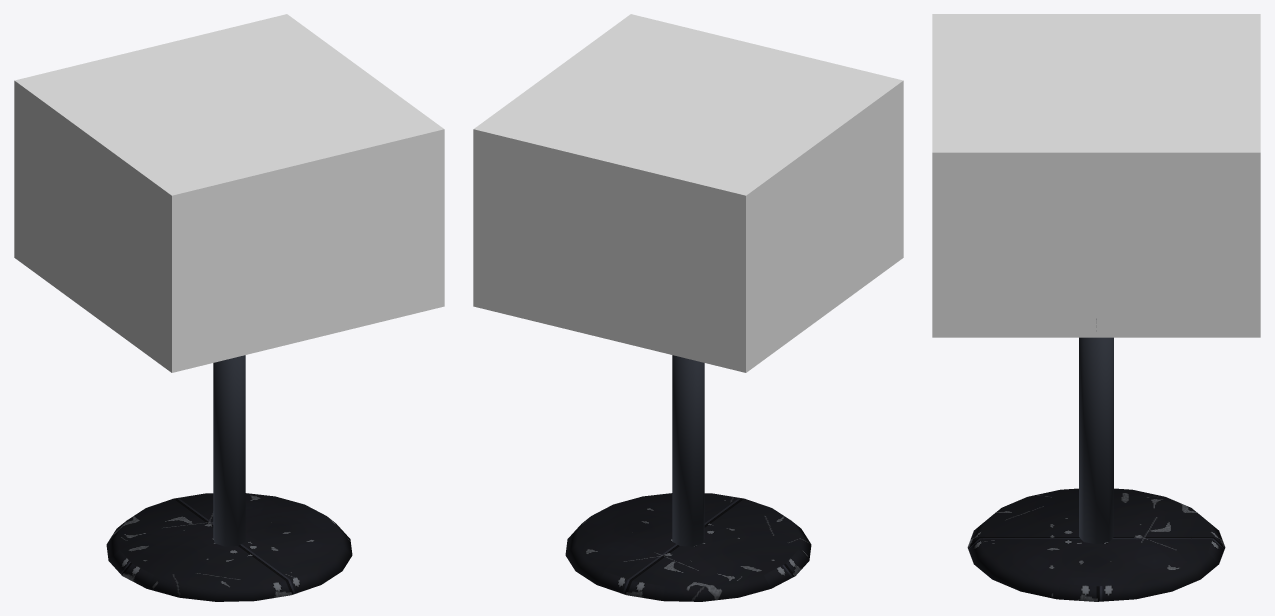
File: Furn_SideTable.gltf
The picture shows the model from 3 angles, left to right: view 1: azimuth 30°, elevation 25°; view 2: azimuth 150°, elevation 25°; view 3: azimuth 270°, elevation 25°; orthographic projection. The views are drawn at different scales.
Parts seen in each view (by area): view 1: Furn_SideTable_COL, Furn_SideTable; view 2: Furn_SideTable_COL, Furn_SideTable; view 3: Furn_SideTable_COL, Furn_SideTable.
Boxes of the visible parts, x1,y1,x2,y2 form: Furn_SideTable_COL: [14, 14, 444, 372]; Furn_SideTable: [106, 355, 352, 601]; Furn_SideTable_COL: [473, 14, 903, 372]; Furn_SideTable: [565, 355, 811, 601]; Furn_SideTable_COL: [932, 14, 1260, 337]; Furn_SideTable: [967, 319, 1225, 601].
Size of the model in its own units: 0.56 by 0.8737 by 0.56.
Materials: 11 (2 with a texture image).
